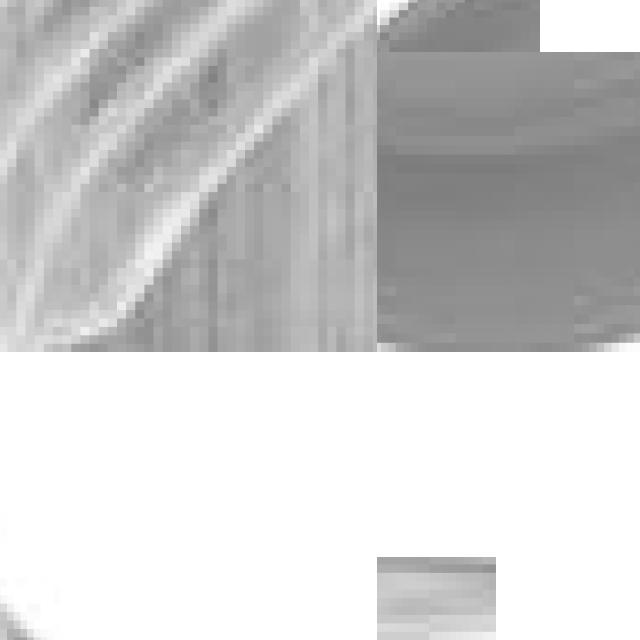forks: (0, 352, 377, 640)
spoons: (0, 0, 377, 352), (377, 0, 613, 352)
